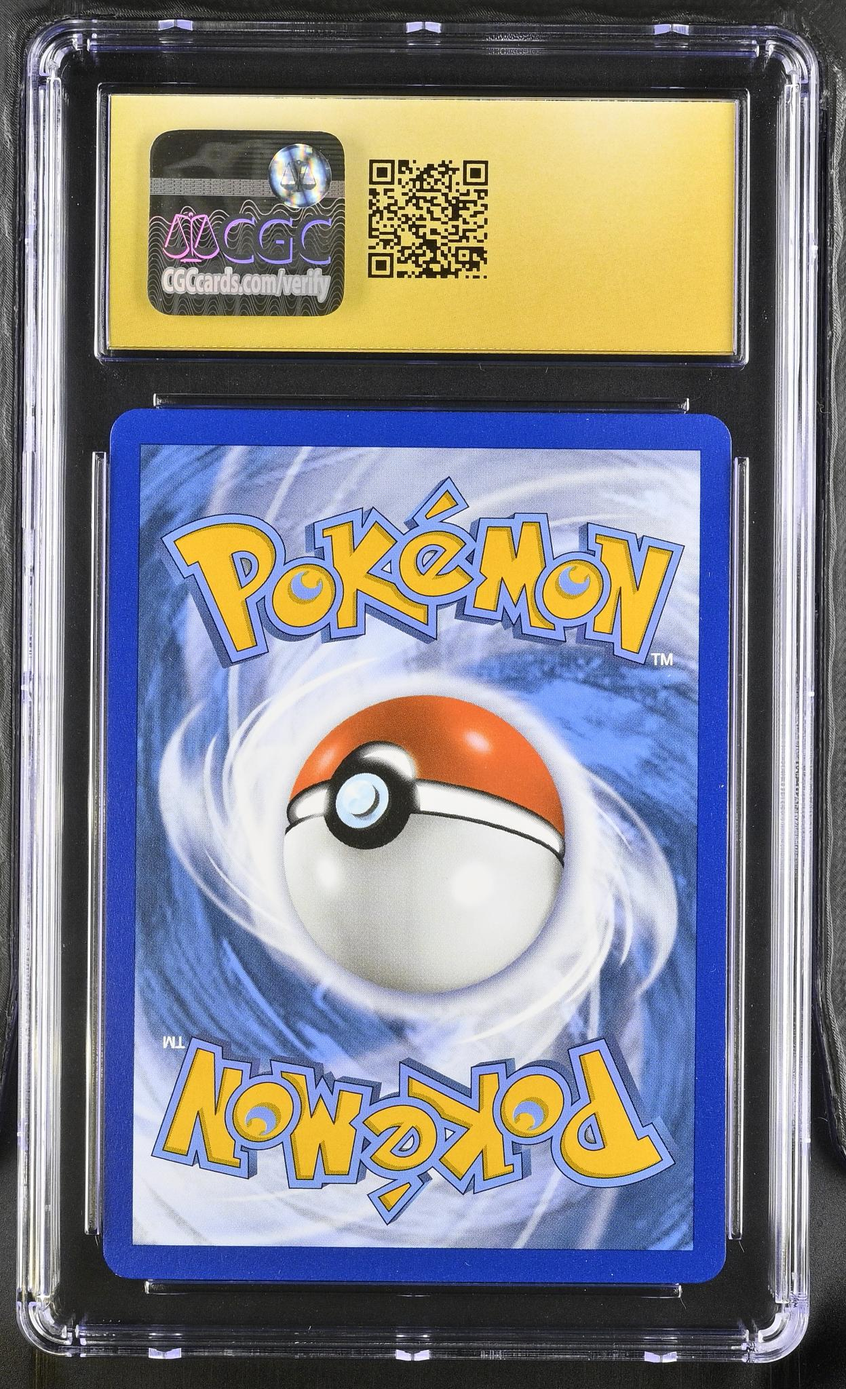card-2UtV: (103, 409, 732, 1283)
